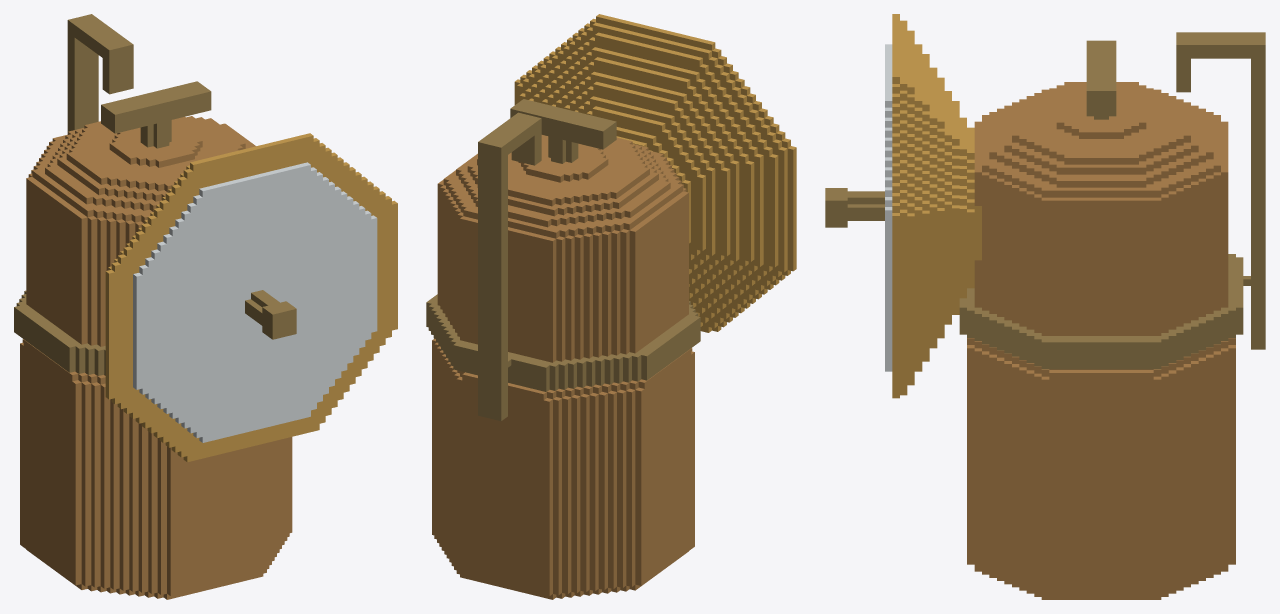
The model's file is oxylamp.glb.
3 renders of one model, left to right at view 1: azimuth 30°, elevation 25°; view 2: azimuth 150°, elevation 25°; view 3: azimuth 270°, elevation 25°, orthographic. The views are drawn at different scales.
Visible parts, largest first — view 1: oxylamp:compound; view 2: oxylamp:compound; view 3: oxylamp:compound.
Boxes of the visible parts, x1=… form: oxylamp:compound: x1=14, y1=14, x2=397, y2=599; oxylamp:compound: x1=426, y1=14, x2=796, y2=599; oxylamp:compound: x1=825, y1=14, x2=1265, y2=599.
Bounding box in the file's own units: 0.096 × 0.15 × 0.118.
